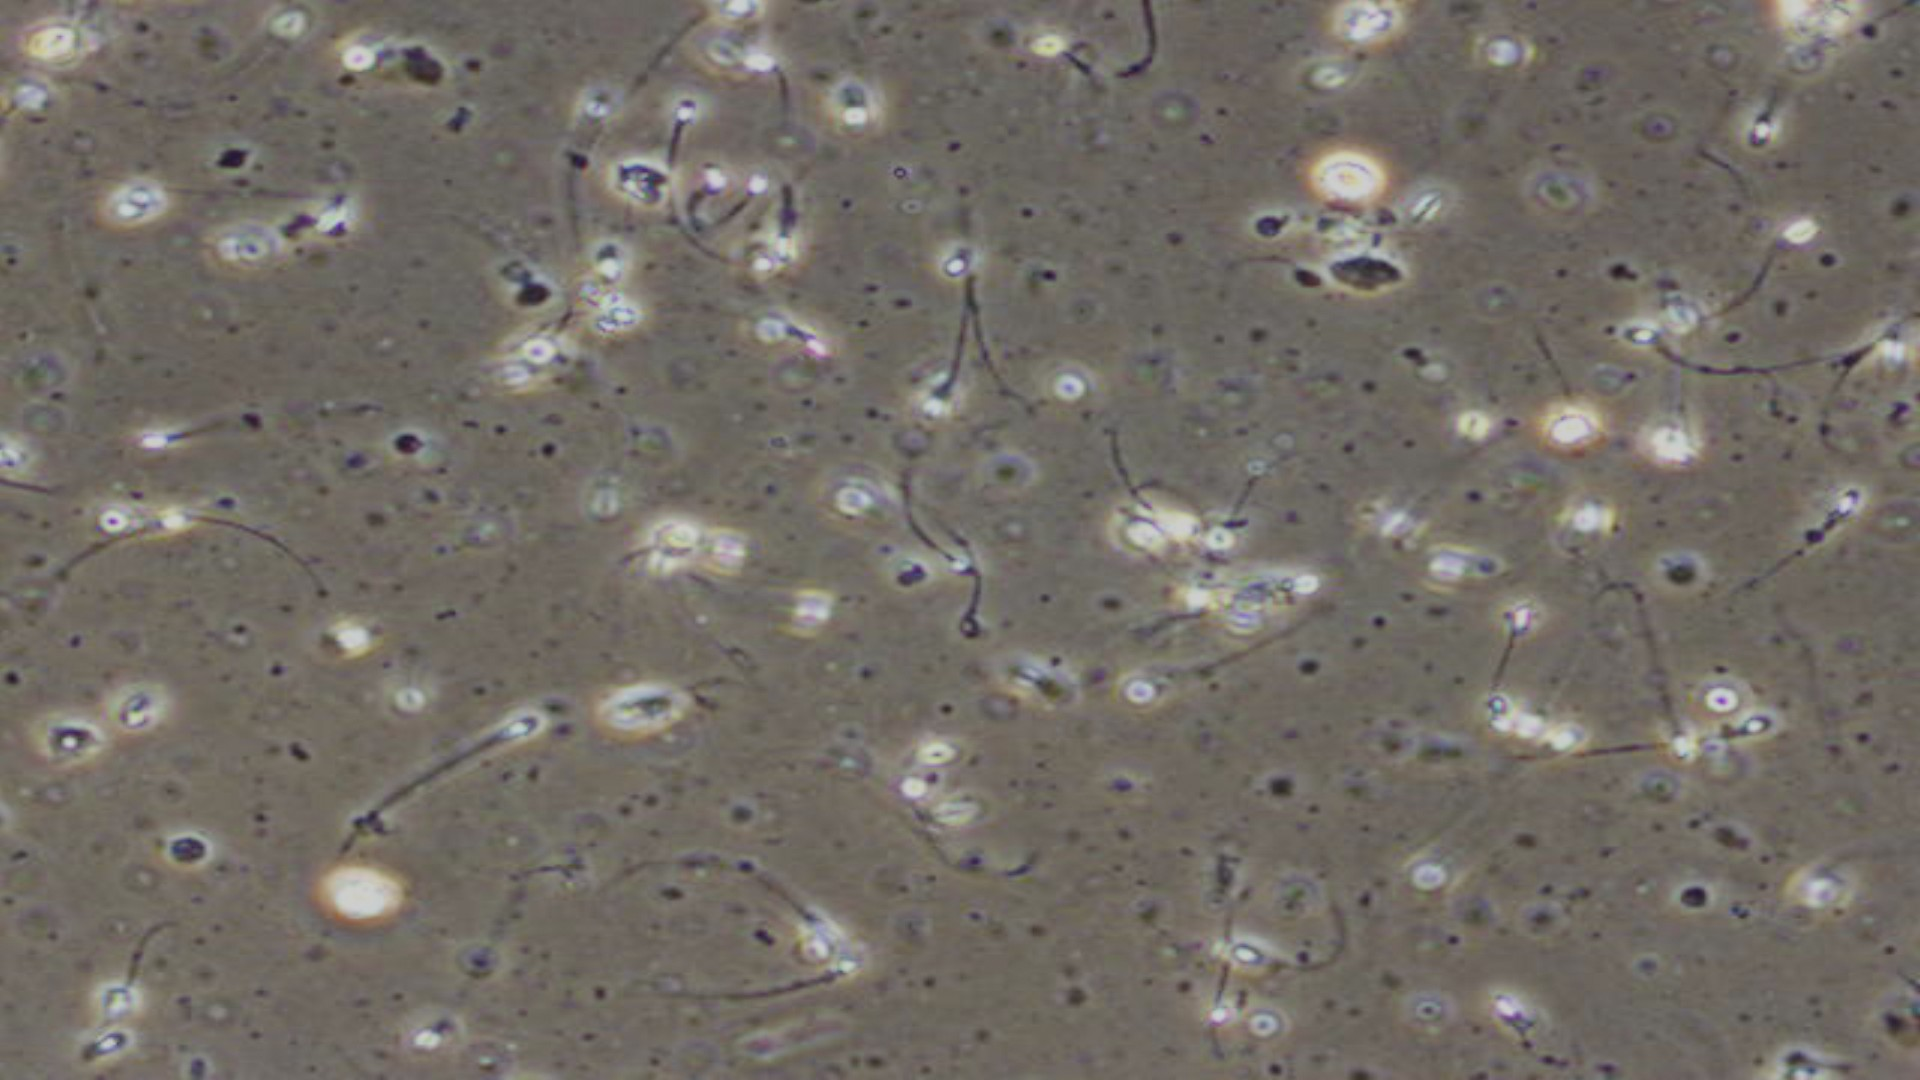sperm: (29, 504, 196, 592), (1025, 32, 1178, 105), (397, 713, 543, 786), (1106, 444, 1195, 543), (905, 313, 975, 431), (1477, 595, 1549, 707), (136, 413, 240, 471), (642, 99, 711, 185), (903, 509, 982, 579), (742, 959, 876, 1000), (1615, 322, 1714, 376), (1803, 477, 1869, 556), (1225, 928, 1327, 977), (934, 211, 996, 287), (1731, 82, 1784, 166), (767, 310, 843, 363), (1656, 663, 1696, 760), (742, 53, 796, 117), (1713, 711, 1797, 745), (735, 173, 767, 224)
